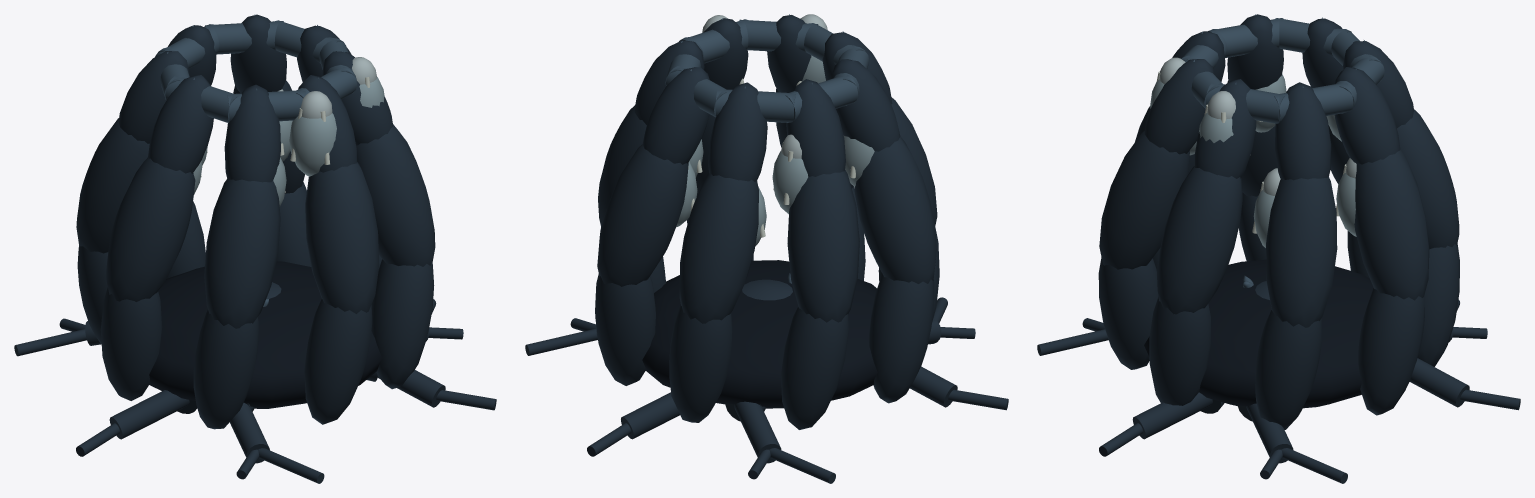
Rendered from CMU3DHiveHiveEggMorpherXenoConstructionNode.glb.
3 renders of one model, left to right at view 1: azimuth 30°, elevation 25°; view 2: azimuth 150°, elevation 25°; view 3: azimuth 270°, elevation 25°, orthographic.
Visible parts, largest first — view 1: fluted egg cradle (×21), morpher basin floor, rolled organic lip (×8), sinuous anchoring root (×7), cradled egg shell (×2), cradled egg crown; view 2: fluted egg cradle (×19), morpher basin floor, rolled organic lip (×7), sinuous anchoring root (×7), cradled egg shell (×3), construction bud; view 3: fluted egg cradle (×22), morpher basin floor, rolled organic lip (×8), sinuous anchoring root (×7), cradled egg shell (×3), cradled egg crown.
Part boxes in pixels (left/top/right/bottom): fluted egg cradle (×21): left=76, top=14, right=435, bottom=429; morpher basin floor: left=149, top=261, right=382, bottom=408; rolled organic lip (×8): left=155, top=20, right=357, bottom=122; sinuous anchoring root (×7): left=14, top=329, right=496, bottom=483; cradled egg shell (×2): left=289, top=77, right=384, bottom=176; cradled egg crown: left=300, top=91, right=332, bottom=118; fluted egg cradle (×19): left=595, top=15, right=937, bottom=429; morpher basin floor: left=642, top=260, right=877, bottom=408; rolled organic lip (×7): left=666, top=19, right=869, bottom=123; sinuous anchoring root (×7): left=525, top=328, right=1008, bottom=483; cradled egg shell (×3): left=676, top=135, right=874, bottom=227; construction bud: left=742, top=279, right=792, bottom=300; fluted egg cradle (×22): left=1098, top=14, right=1459, bottom=429; morpher basin floor: left=1144, top=259, right=1373, bottom=408; rolled organic lip (×8): left=1181, top=18, right=1384, bottom=123; sinuous anchoring root (×7): left=1037, top=329, right=1520, bottom=483; cradled egg shell (×3): left=1199, top=113, right=1356, bottom=247; cradled egg crown: left=1207, top=91, right=1235, bottom=119.
Size of the model in its own units: 1.01 by 0.7619 by 0.9995.
